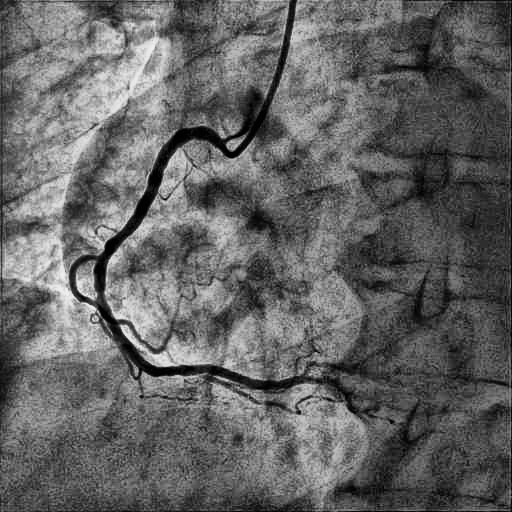pborca: (197, 365, 381, 417)
pda: (199, 373, 314, 415)
rca: (94, 126, 222, 376)
